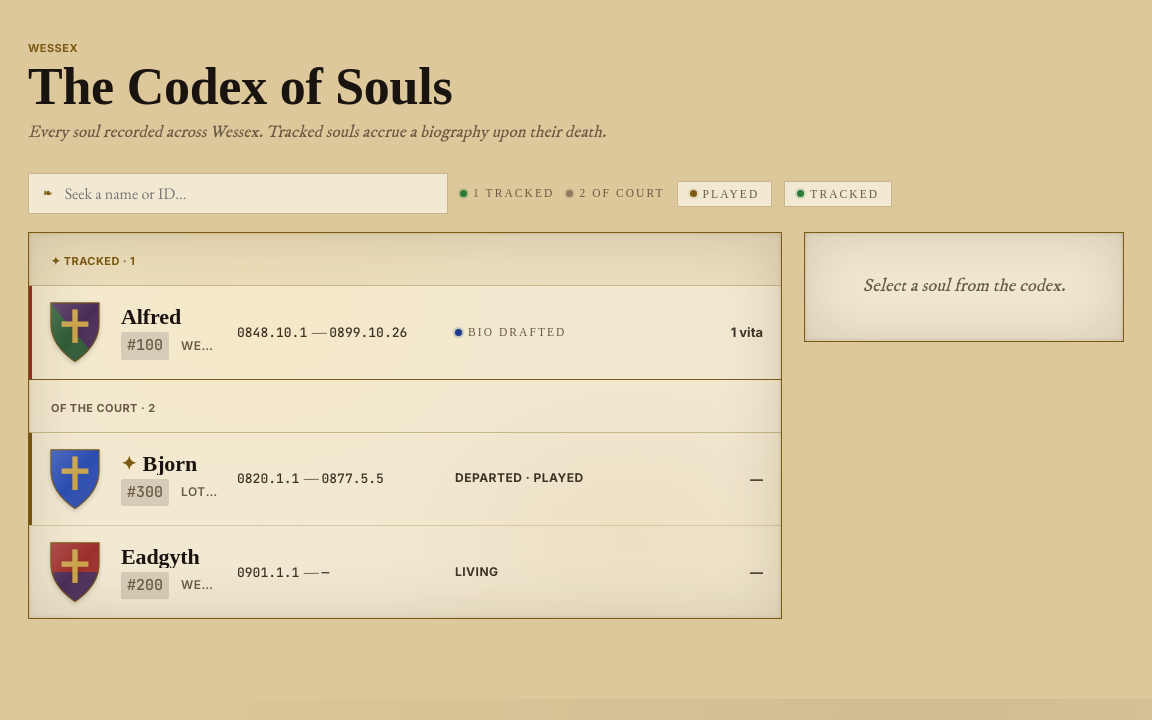
it: CodexPage › the Played filter narrows the tables to played souls
Expected: the text "Eadgyth" is shown, x1=121 y1=544 x2=200 y2=569
Click the button "Played" at {"x": 724, "y": 194}, box x1=677 y1=181 x2=772 y2=207
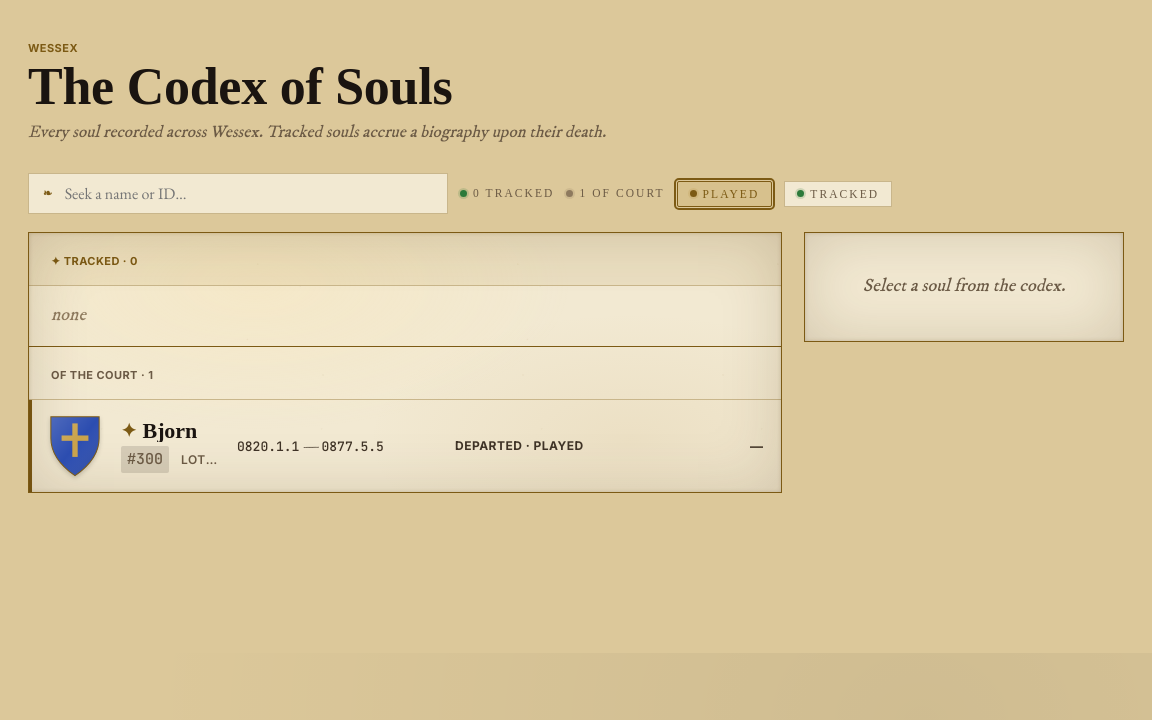
Expected: the text "Bjorn" is shown, x1=143 y1=418 x2=197 y2=443
Expected: the option "Eadgyth" is gone
